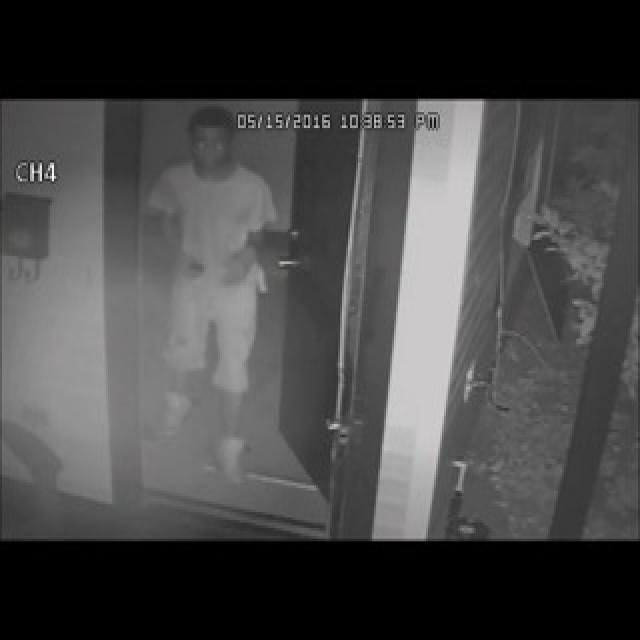thief: (153, 97, 291, 423)
